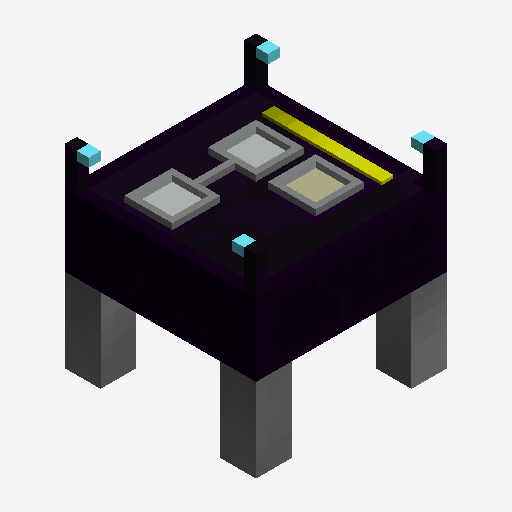
Isometric view (azimuth 45°, elevation 35.3°) of a Minecraft model made of 27 cuboids, textured from the same repository.
Parts seen in each view (by area): element 10, element 12, element 11, element 13, element 1, element 8, element 9, element 2, element 7, element 16, element 19, element 23 (+3 smaller).
Boxes of the visible parts, x1,y1,x2,y2 form: element 10: [65, 85, 446, 381]; element 12: [220, 361, 291, 477]; element 11: [65, 272, 135, 388]; element 13: [376, 272, 446, 388]; element 1: [262, 106, 392, 184]; element 8: [244, 241, 267, 298]; element 9: [423, 137, 446, 195]; element 2: [244, 34, 267, 91]; element 7: [65, 137, 88, 195]; element 16: [310, 178, 363, 215]; element 19: [250, 144, 303, 181]; element 23: [166, 192, 219, 229].
Bounding box in the file's own units: 16 × 16.25 × 16.